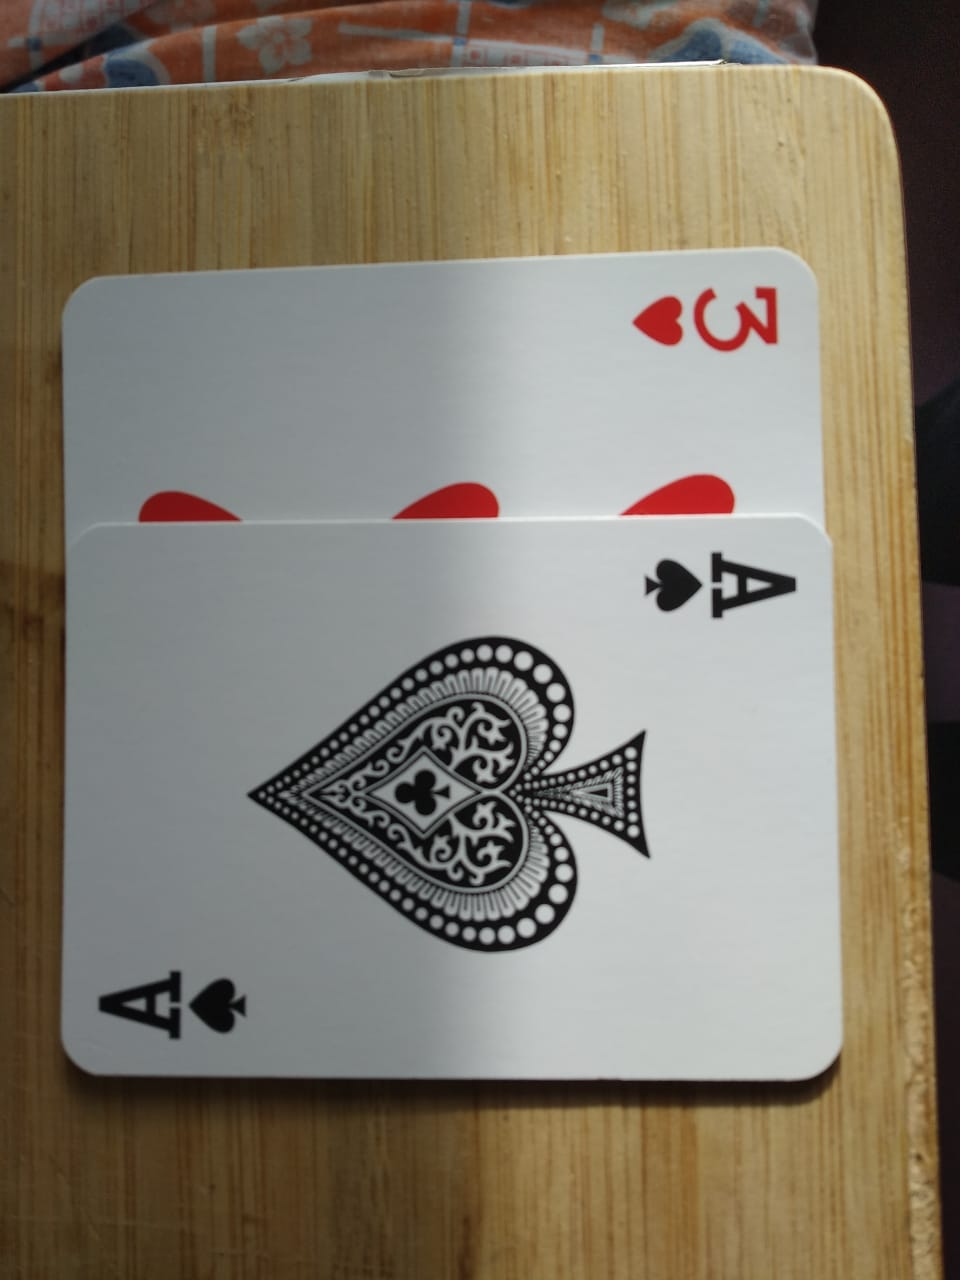ace: (48, 504, 883, 1123)
